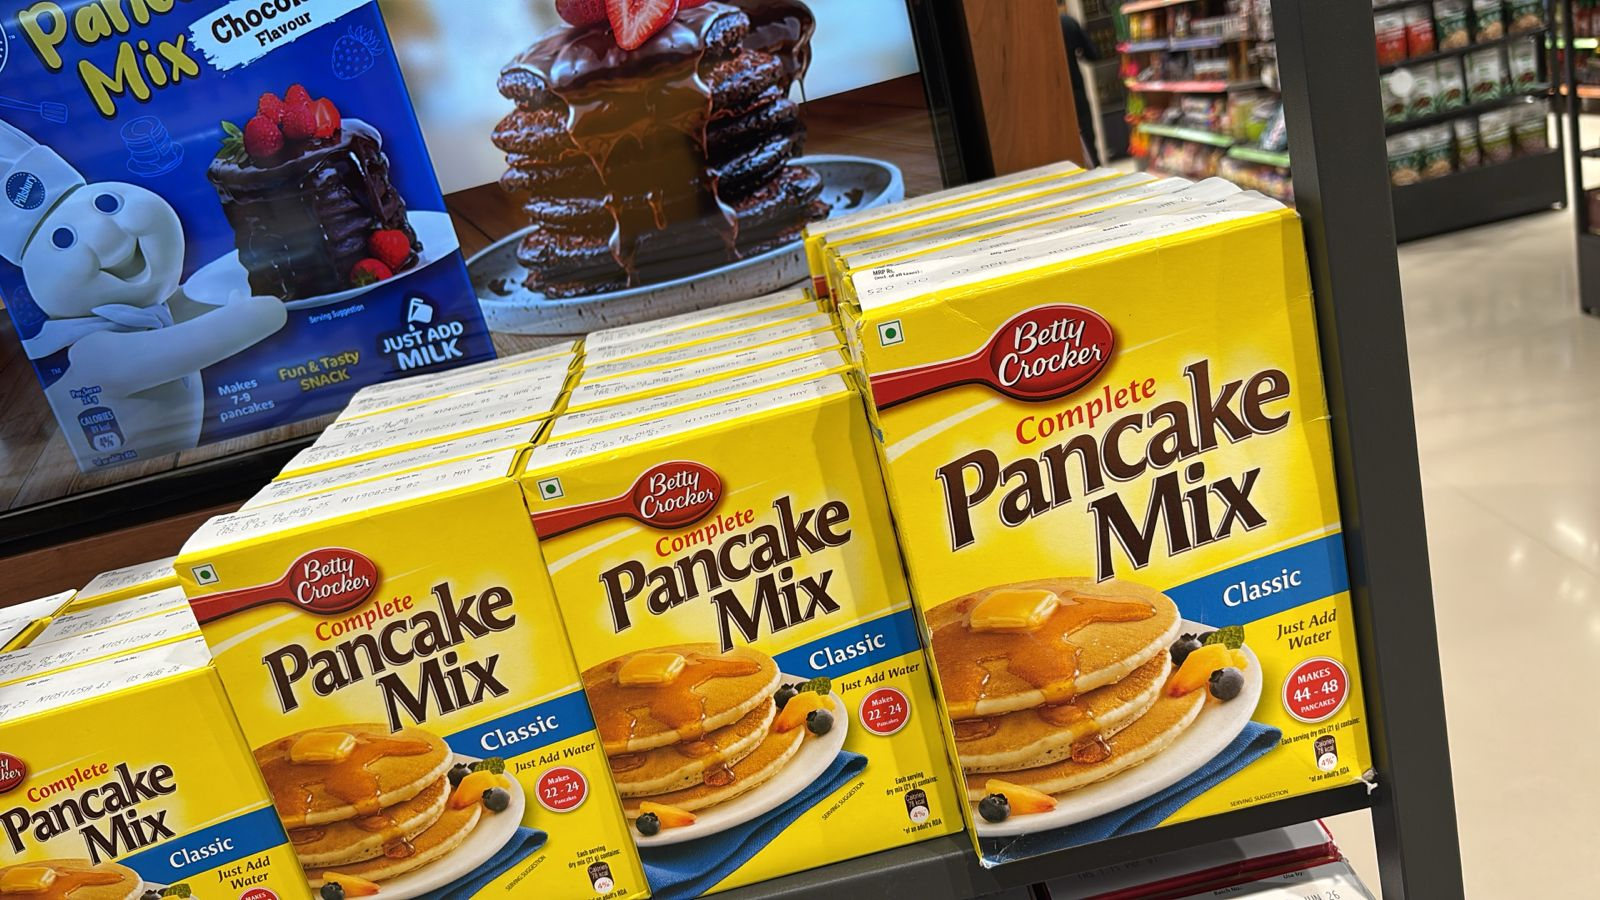Betty Crocker Pancake Mix: (842, 292, 1395, 818), (536, 424, 1007, 900), (188, 504, 668, 900), (0, 684, 318, 900)
